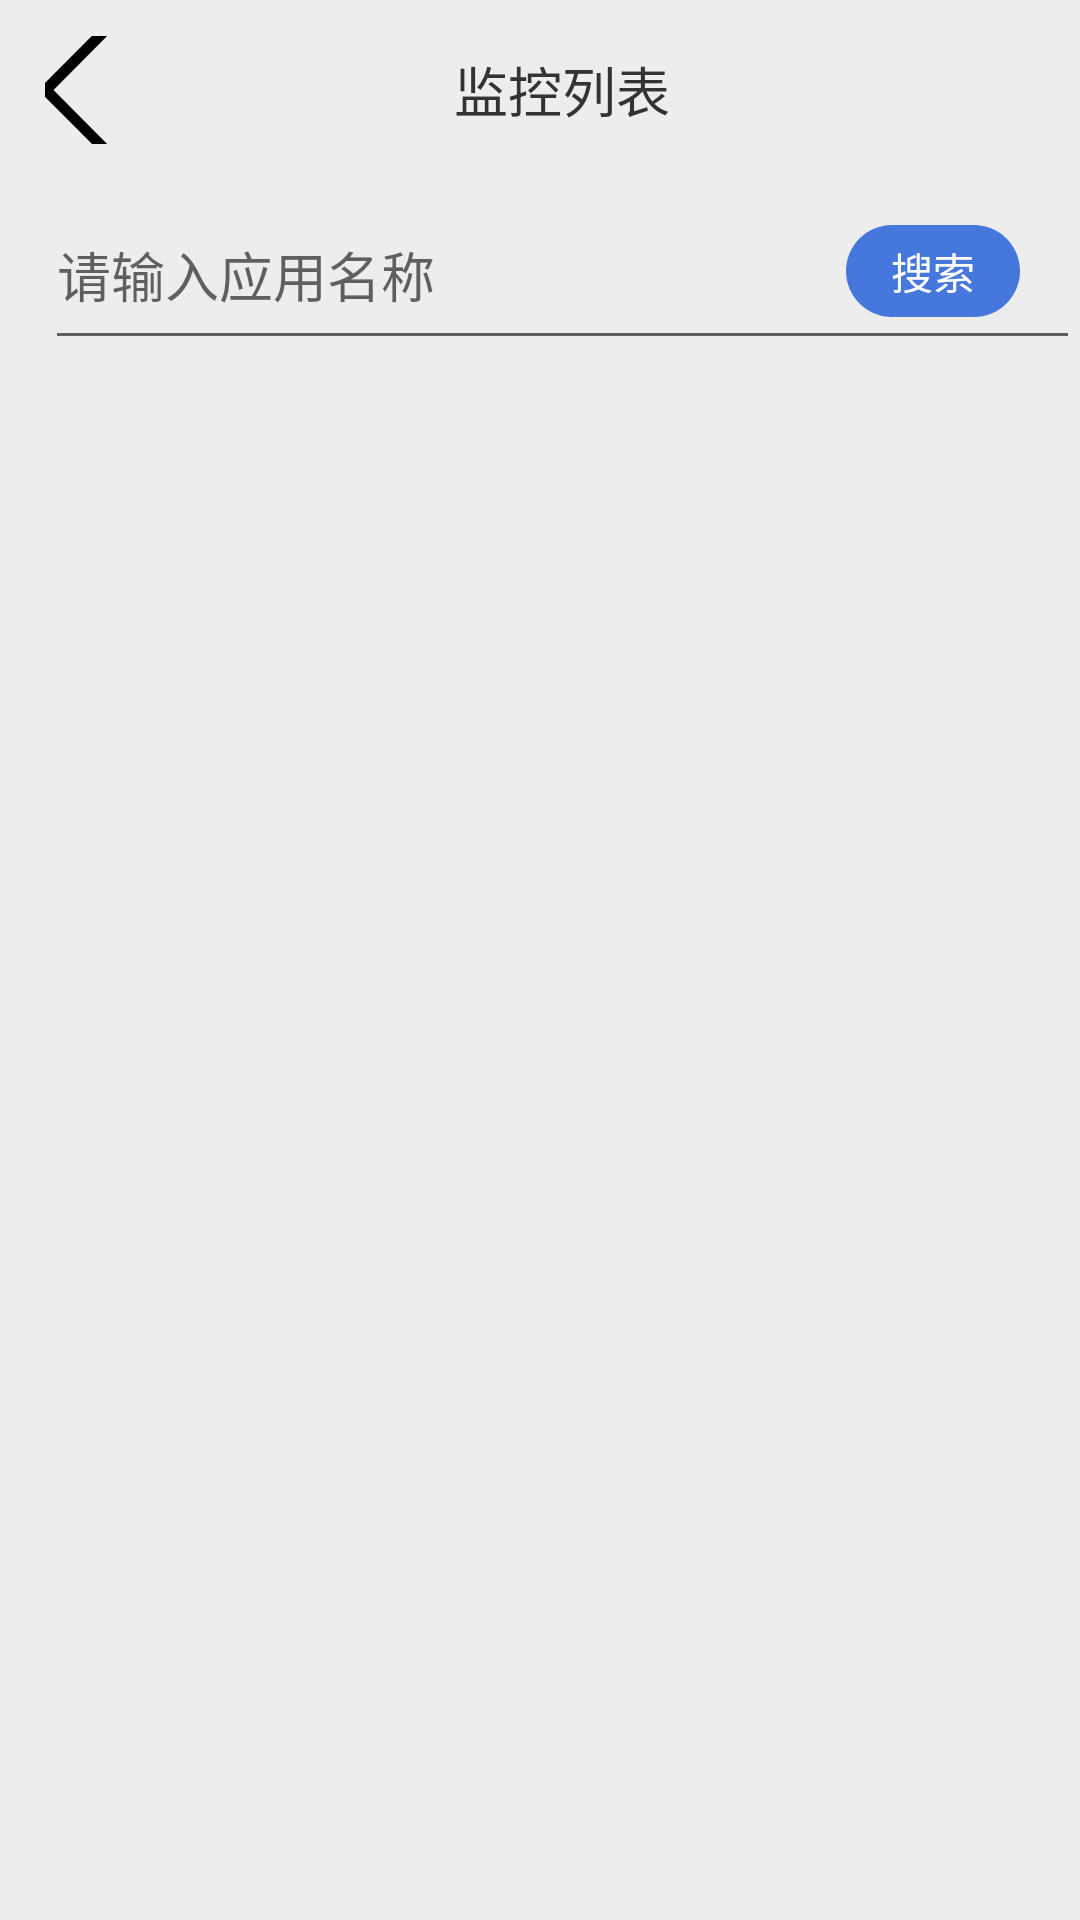

Named icons in this screenshot (1080 × 1920) and their centers, (x,y):
back: (76,90)
